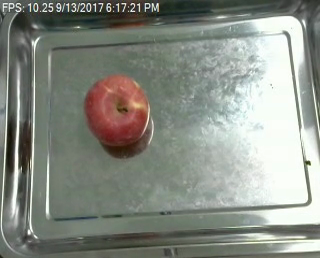Apple: (82, 74, 151, 148)
